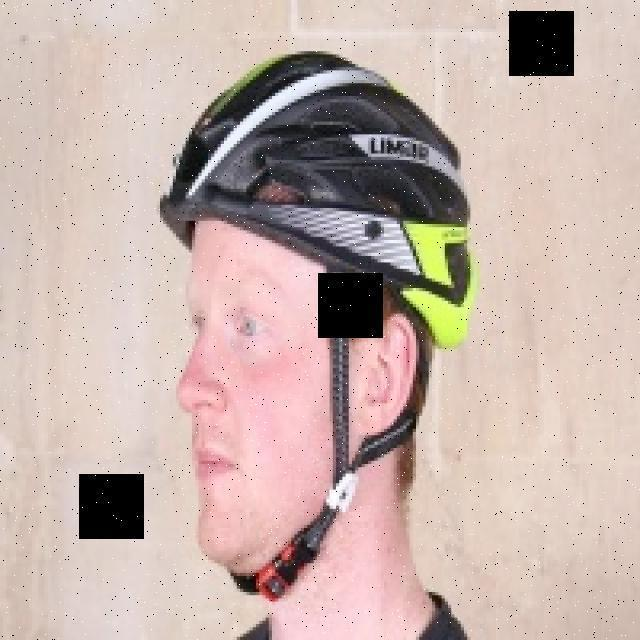helmet: (162, 52, 474, 602)
